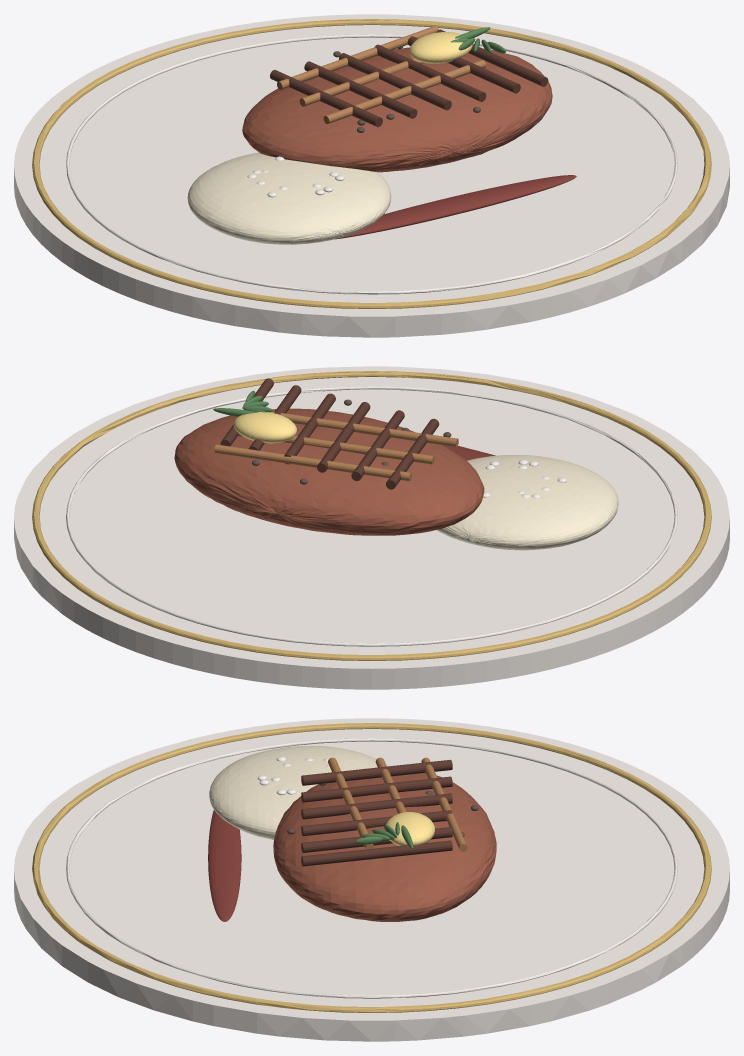
The model's file is wagyu_beef_steak_opt.glb.
The picture shows the model from 3 angles, top to bottom: view 1: azimuth 30°, elevation 25°; view 2: azimuth 150°, elevation 25°; view 3: azimuth 270°, elevation 25°; orthographic projection.
Parts seen in each view (by area): view 1: Porcelain plate, A5 Wagyu steak, Fine gold plate rim; view 2: Porcelain plate, A5 Wagyu steak, Fine gold plate rim; view 3: Porcelain plate, A5 Wagyu steak, Fine gold plate rim.
Part boxes in pixels (x1,y1,x2,y2): Porcelain plate: [14, 14, 729, 337]; A5 Wagyu steak: [242, 25, 552, 172]; Fine gold plate rim: [32, 19, 711, 308]; Porcelain plate: [14, 366, 729, 689]; A5 Wagyu steak: [174, 408, 484, 535]; Fine gold plate rim: [32, 371, 711, 660]; Porcelain plate: [14, 718, 729, 1041]; A5 Wagyu steak: [273, 757, 496, 921]; Fine gold plate rim: [32, 723, 711, 1012].
Size of the model in its own units: 18 by 3.17 by 18.
3 materials, 3 textured.
